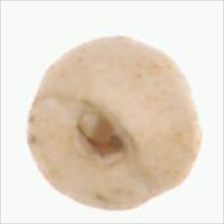L3: (75, 105, 131, 164)
L4: (28, 35, 202, 211)
